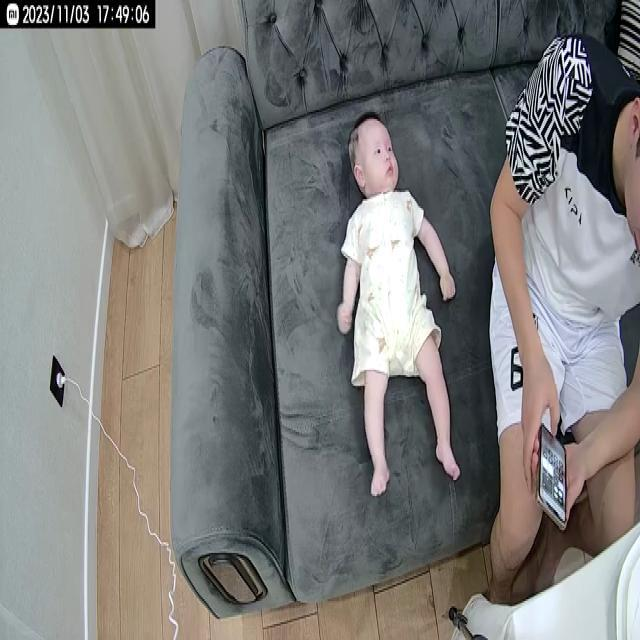baby: (336, 109, 469, 502)
